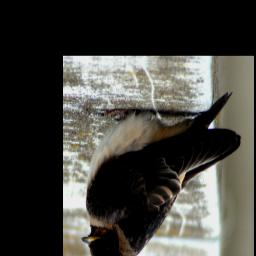Swallow: (79, 78, 243, 256)
